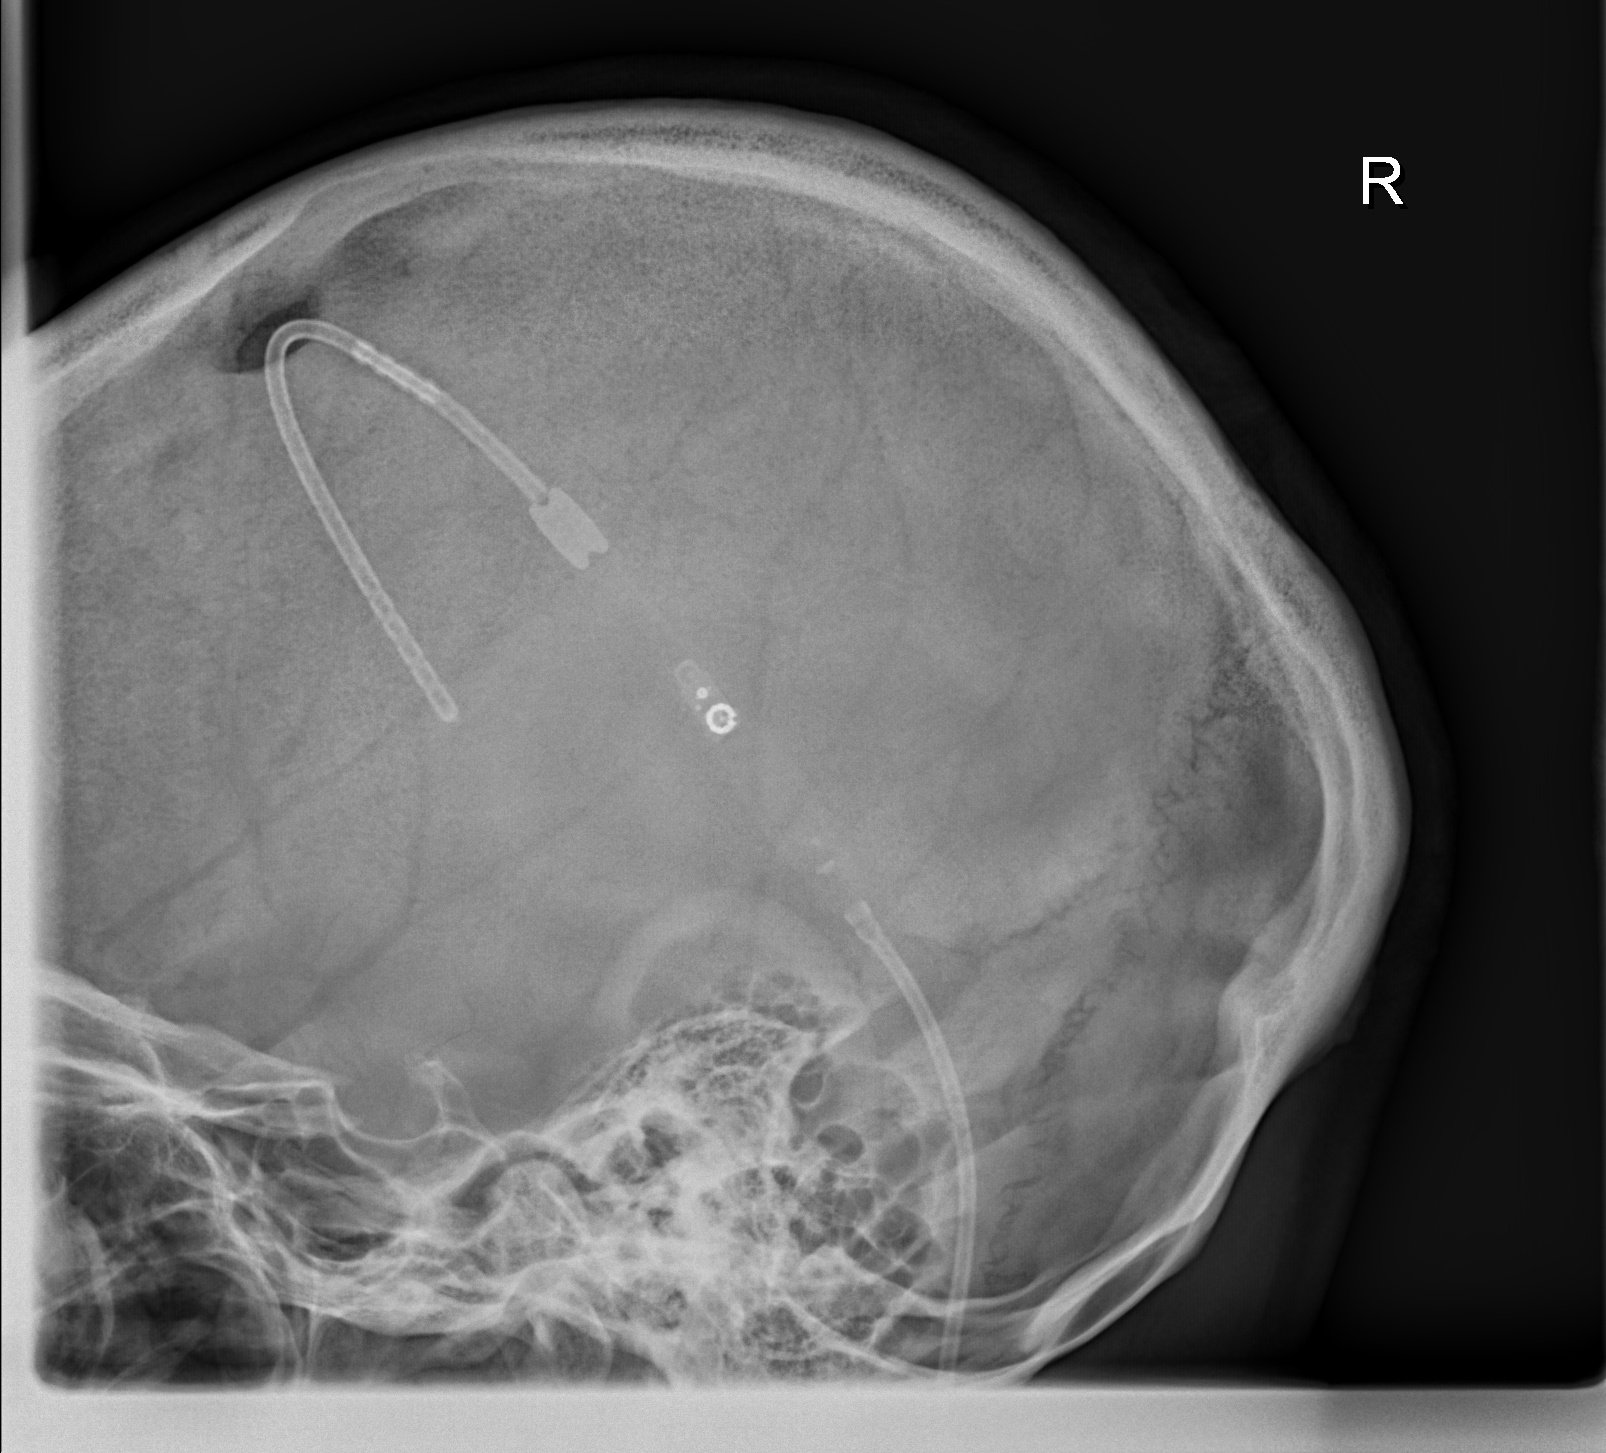Codman Hakim: (670, 660, 753, 766)
